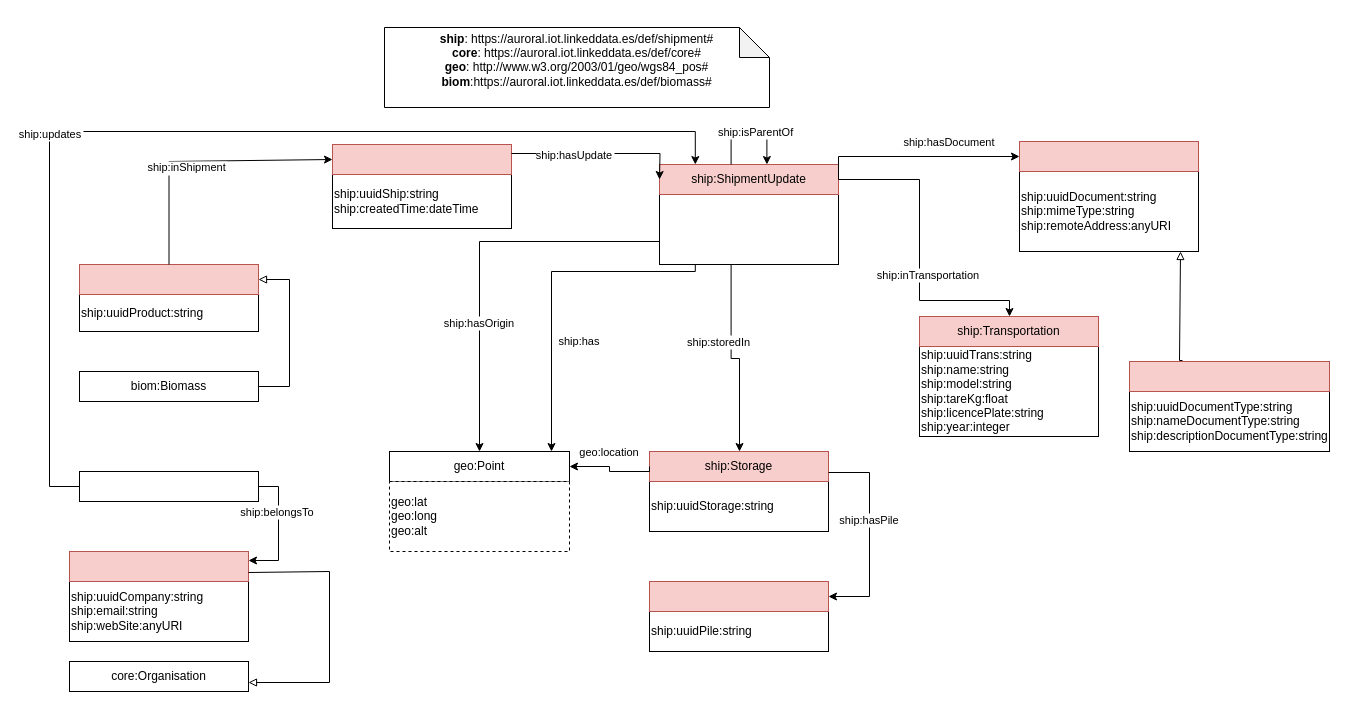
Some shapes in this 1347 by 709 pixel diagram are drawn without their labels. The box of each missing label's shape, as (x1, y1, x2, y2) in pixels:
core:User: (78, 470, 258, 502)
ship:Company: (68, 550, 248, 582)
ship:Document: (1018, 140, 1198, 172)
ship:DocumentType: (1128, 360, 1330, 392)
ship:Product: (78, 264, 258, 294)
ship:Shipment: (332, 144, 512, 174)
ship:StoragePile: (648, 580, 828, 612)
ship:uuidShipUpdate:string ship:timeUpdate:dateTime ship:hasType:string: (658, 194, 838, 264)
